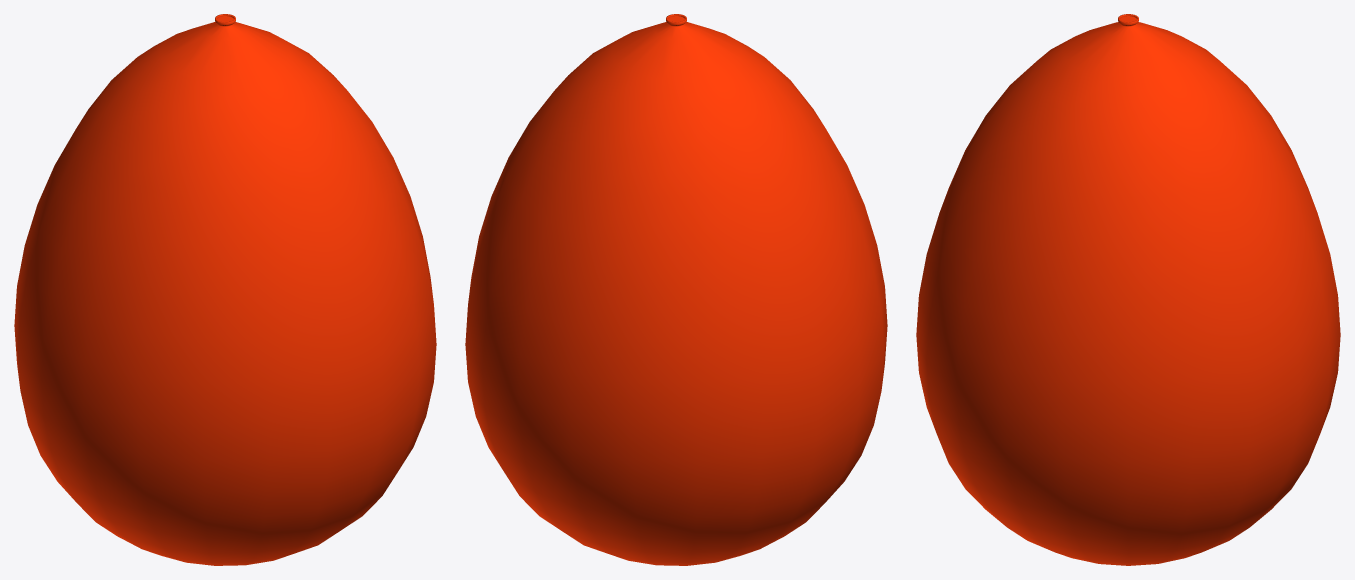
Rendered from SM_Ballon_02.fbx.
3 views of the same model, side by side, from view 1: azimuth 30°, elevation 25°; view 2: azimuth 150°, elevation 25°; view 3: azimuth 270°, elevation 25° (orthographic).
Visible parts, largest first — view 1: SM_Ballon_02_LOD0; view 2: SM_Ballon_02_LOD0; view 3: SM_Ballon_02_LOD0.
Boxes of the visible parts, x1,y1,x2,y2 form: SM_Ballon_02_LOD0: (14,14,436,565); SM_Ballon_02_LOD0: (465,14,887,565); SM_Ballon_02_LOD0: (916,14,1340,565).
Size of the model in its own units: 16.4 by 16.4 by 22.47.
Materials: 1 (1 with a texture image).
